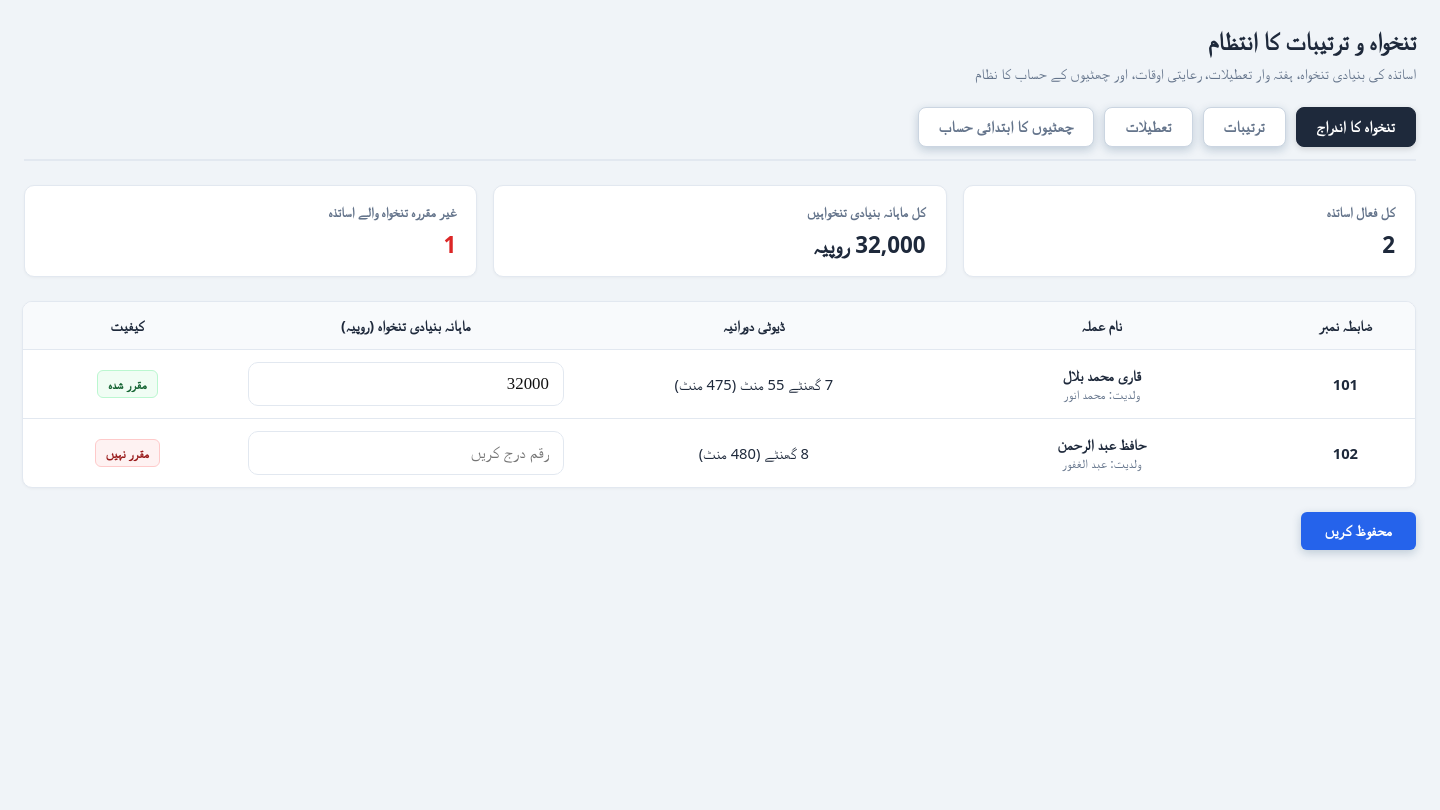
Test: Payroll UI & Access Control Tests › Payroll Component Functionality › confirms salary data is NEVER written to localStorage or sessionStorage
Expected: the text "قاری محمد بلال" is shown, [1063, 365, 1141, 385]
Note: Modify salary
Replace the text in the number field named "ماہانہ تنخواہ برائے قاری محمد بلال" with "55000". click: (406,384)
box: [248, 362, 564, 406]
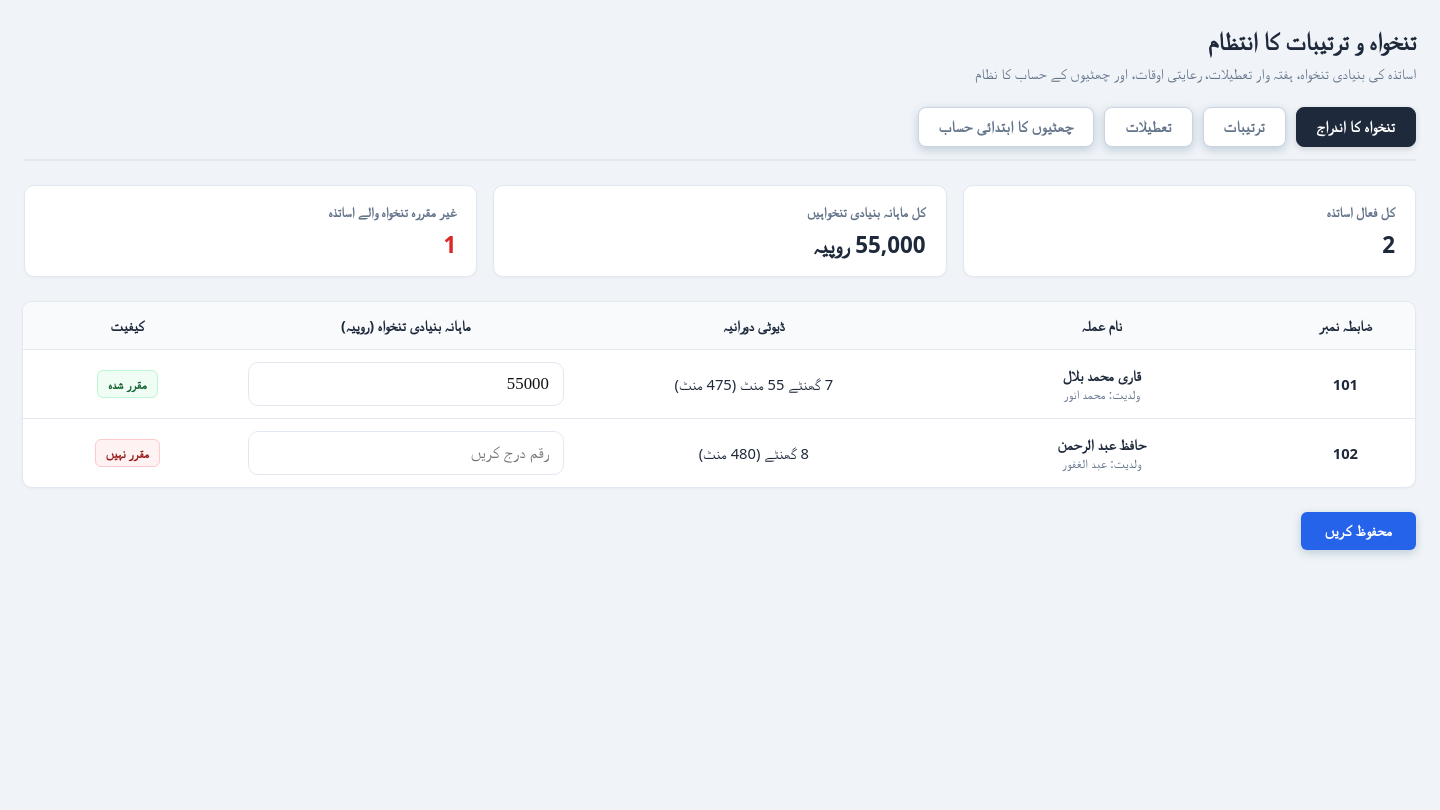
Click the button "محفوظ کریں". click: (1358,531)
box: [1301, 512, 1416, 550]
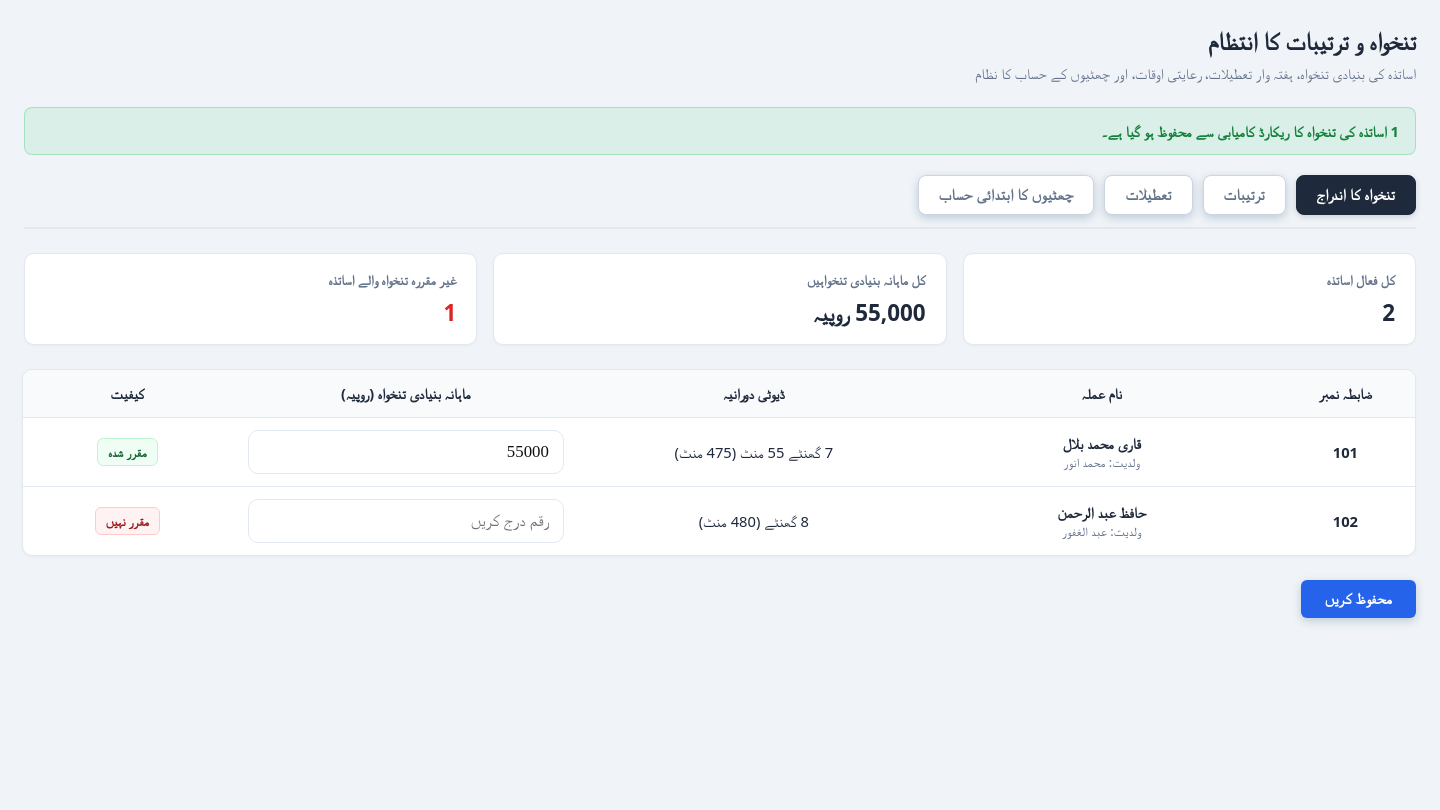
Result: the message shows "کامیابی سے محفوظ ہو گیا" at [1102, 121, 1399, 141]
